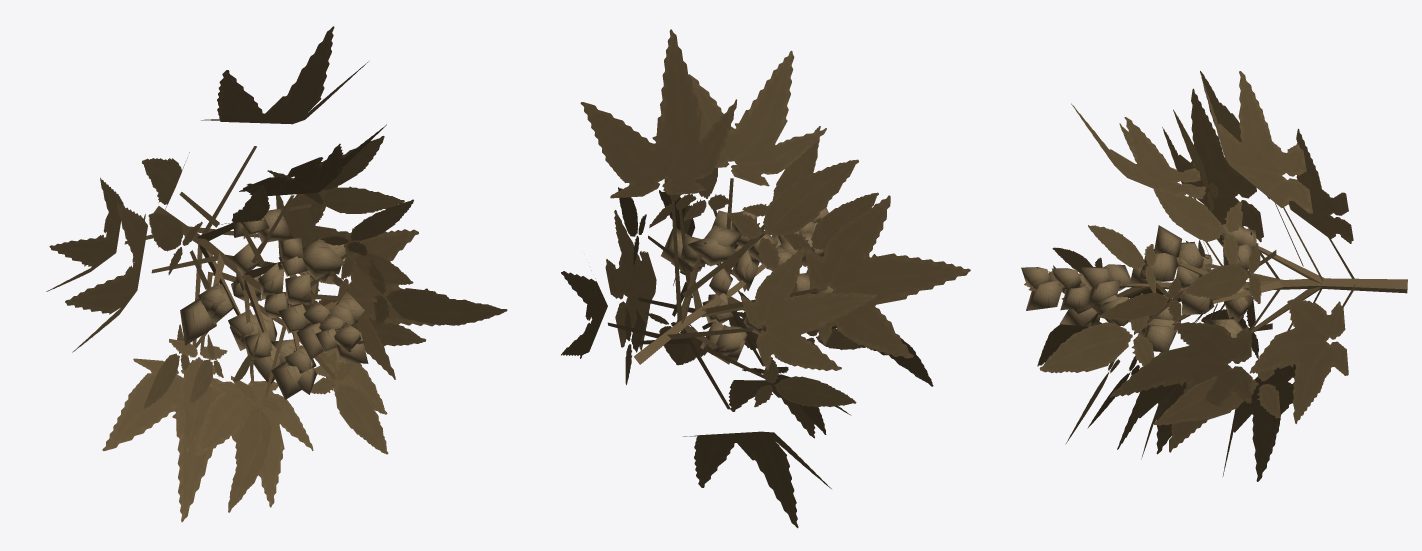
File: p_male_auto_flowering_c3_cards.obj
3 views of the same model, side by side, from view 1: azimuth 30°, elevation 25°; view 2: azimuth 150°, elevation 25°; view 3: azimuth 270°, elevation 25° (orthographic). The views are drawn at different scales.
Bounding box in the file's own units: 1.23 × 1.47 × 0.986.
Materials: 1 (1 with a texture image).
